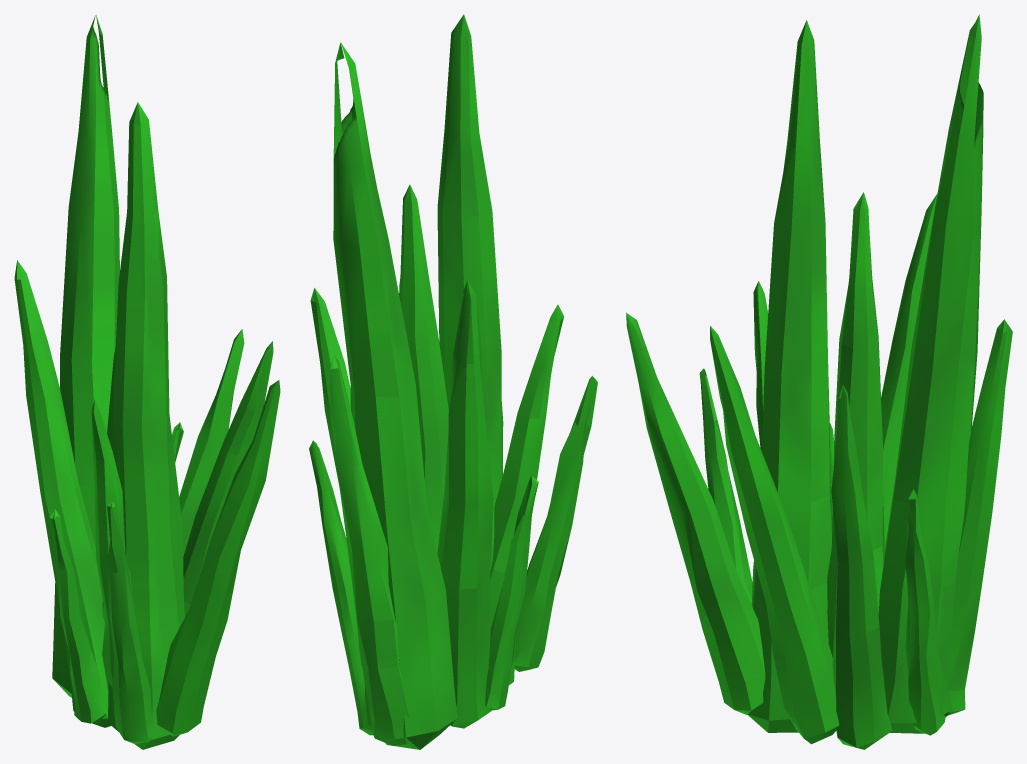
The model's file is Grass1.obj.
3 views of the same model, side by side, from view 1: azimuth 30°, elevation 25°; view 2: azimuth 150°, elevation 25°; view 3: azimuth 270°, elevation 25° (orthographic). The views are drawn at different scales.
Visible parts, largest first — view 1: Grass1; view 2: Grass1; view 3: Grass1.
Part boxes in pixels (x1,y1,x2,y2): Grass1: [14, 15, 280, 749]; Grass1: [309, 14, 597, 749]; Grass1: [626, 14, 1012, 749].
Size of the model in its own units: 0.174 by 0.5448 by 0.2613.
Materials: 1 (1 with a texture image).
